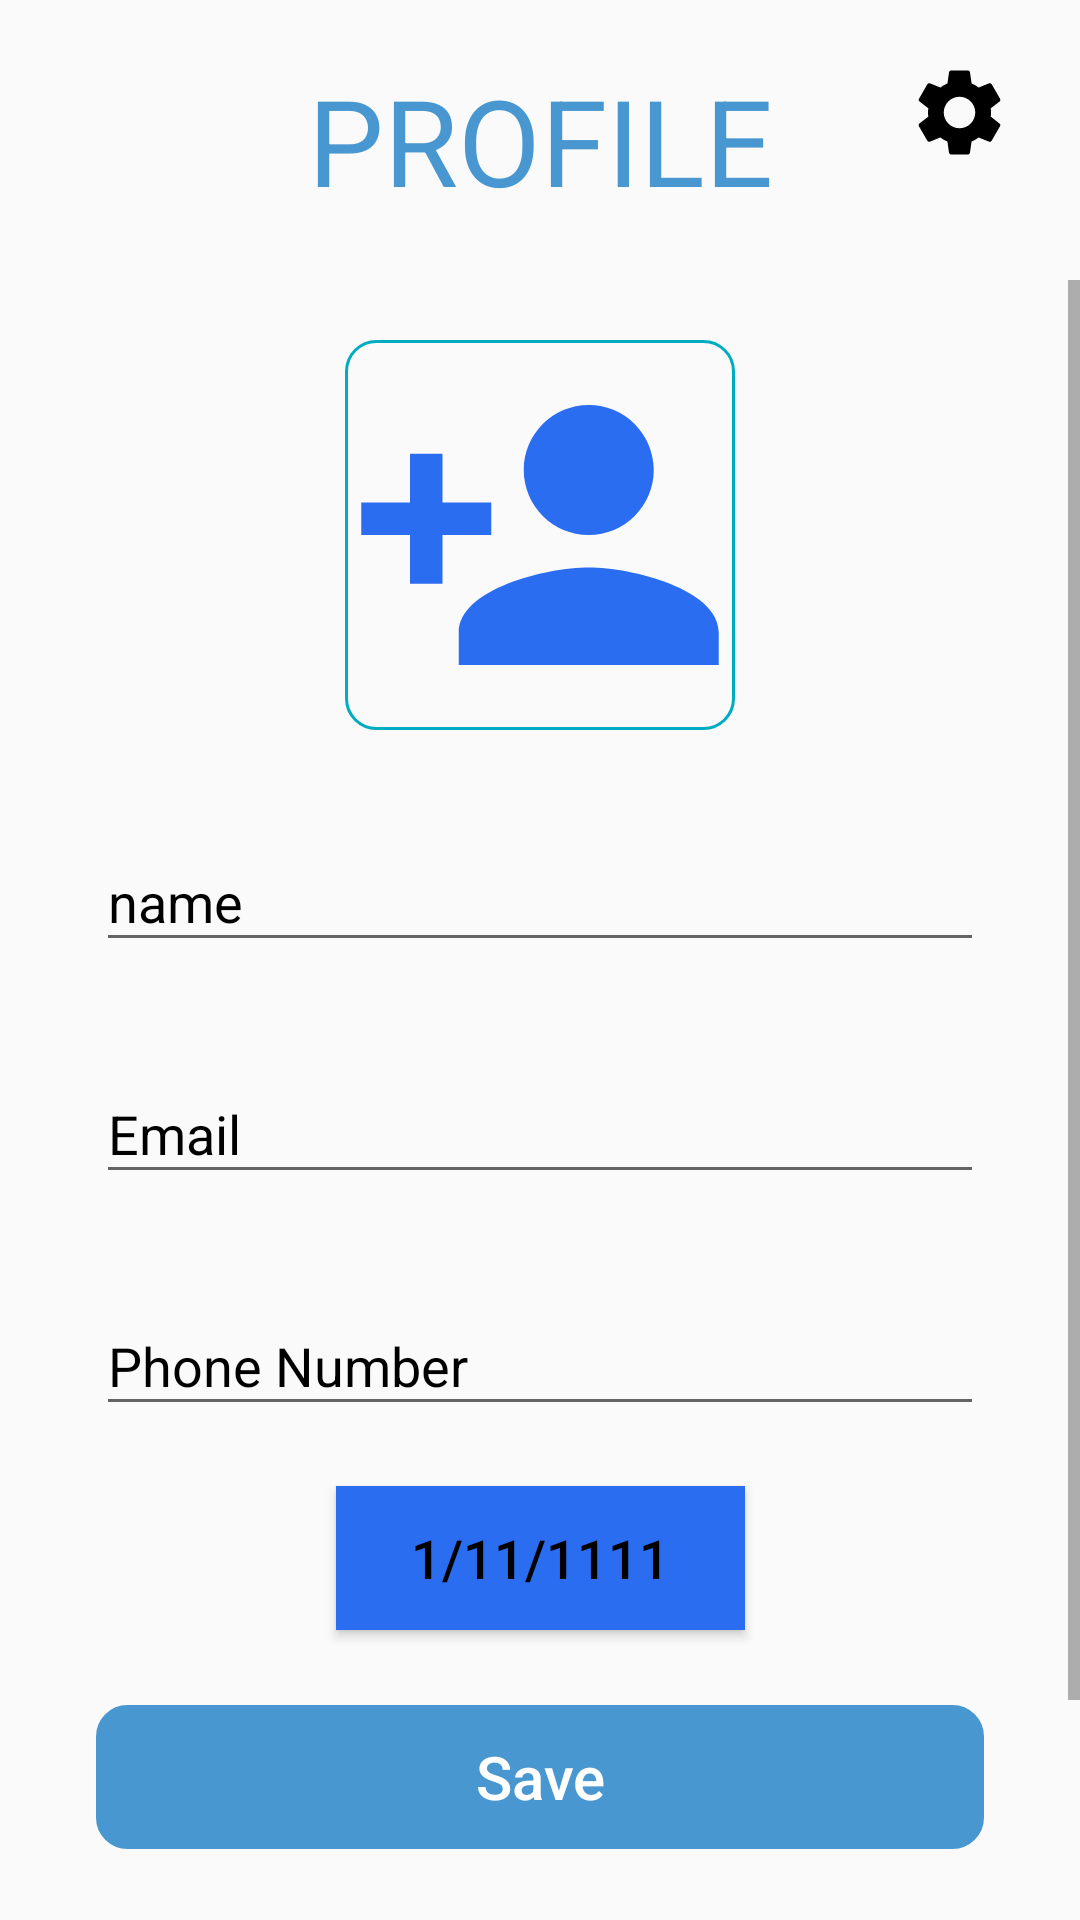

Icon click points for this 1080 × 1920 phone screenshot, format [x,y]:
settings: [959,112]
